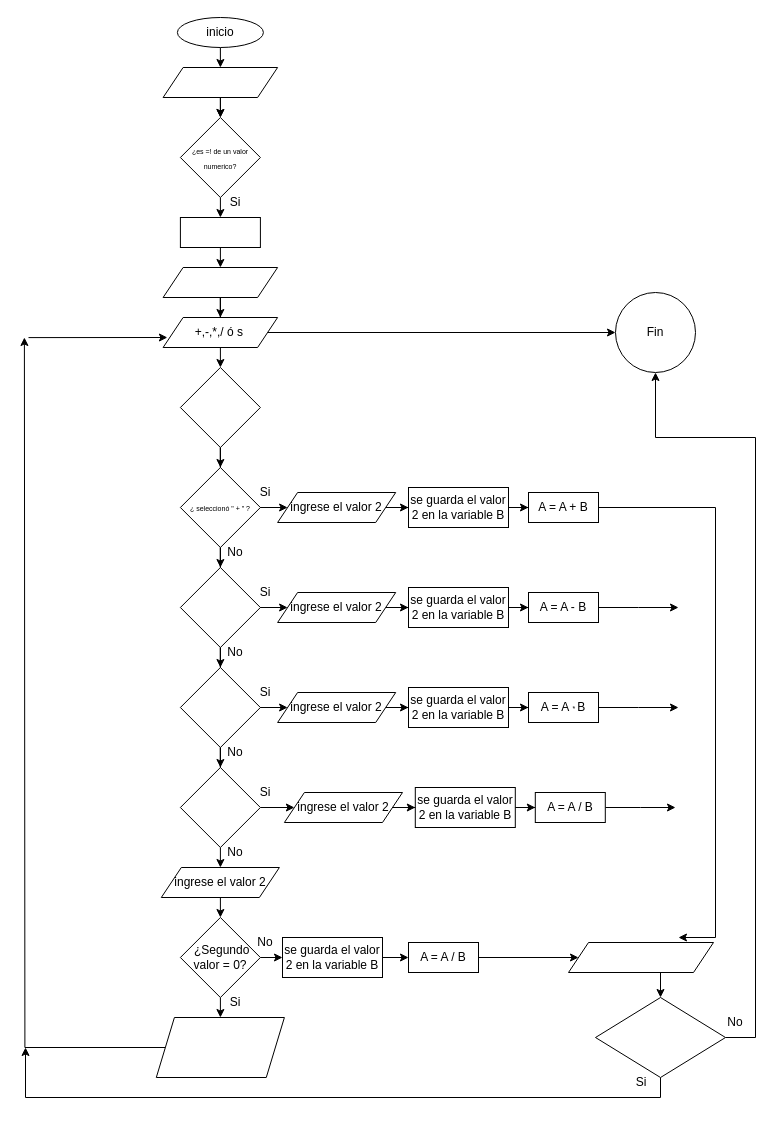
The diagram is 783 pixels wide and 1123 high, and some of its shapes have lost their labels. Each missing label, with the centre of its shape:
El resultado es : " A ": (641,957)
ingrese un valor: (220,82)
no se puede dividir entre "0": (219,1047)
resultado: "A": (220,282)
se guarda la variable "A": (219,232)
¿ seleccionó " * " ?: (219,707)
¿ seleccionó " - " ?: (219,607)
¿ seleccionó " / " ?: (219,807)
¿ seleccionó "S" ?: (219,407)
¿Realizar otra operacion?: (660,1037)
